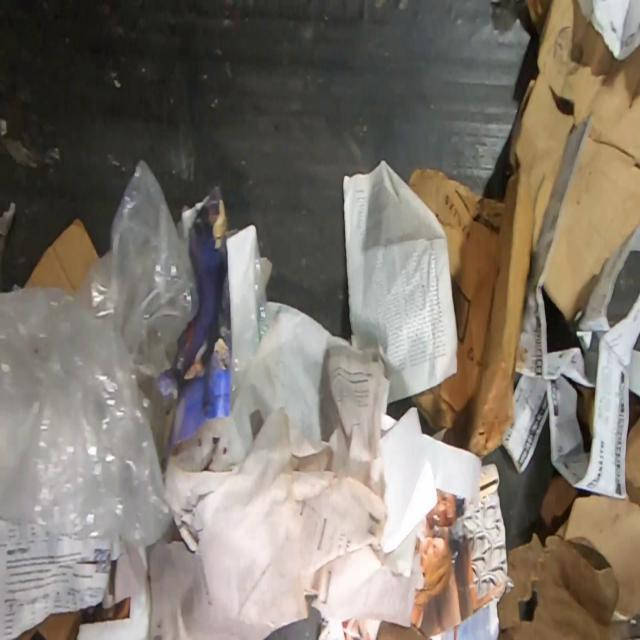cardboard: (408, 0, 639, 461), (554, 494, 640, 620), (21, 218, 100, 298), (540, 475, 579, 532), (17, 608, 82, 640)
soft_plastic: (0, 160, 200, 551), (229, 238, 276, 448)
